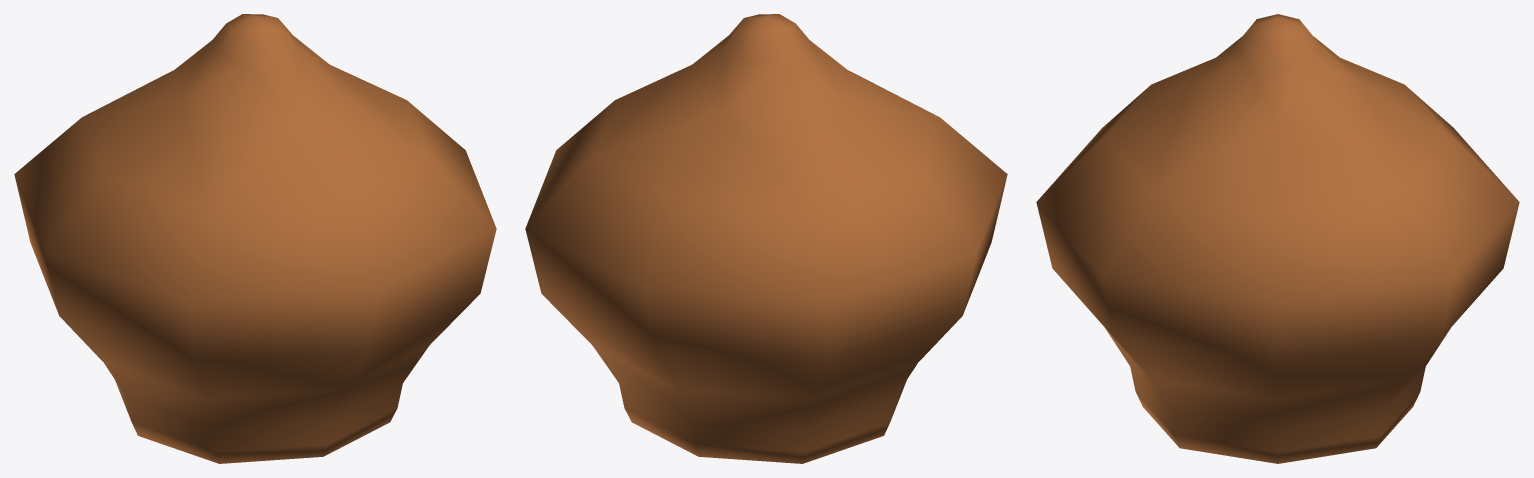
File: Mesh_Pot1.glb
3 renders of one model, left to right at view 1: azimuth 30°, elevation 25°; view 2: azimuth 150°, elevation 25°; view 3: azimuth 270°, elevation 25°, orthographic.
Parts seen in each view (by area): view 1: Cube.008; view 2: Cube.008; view 3: Cube.008.
Part boxes in pixels (x1=…): Cube.008: x1=14, y1=14, x2=496, y2=463; Cube.008: x1=525, y1=14, x2=1007, y2=463; Cube.008: x1=1036, y1=14, x2=1519, y2=463.
Bounding box in the file's own units: 4.03 × 3.58 × 4.03.
